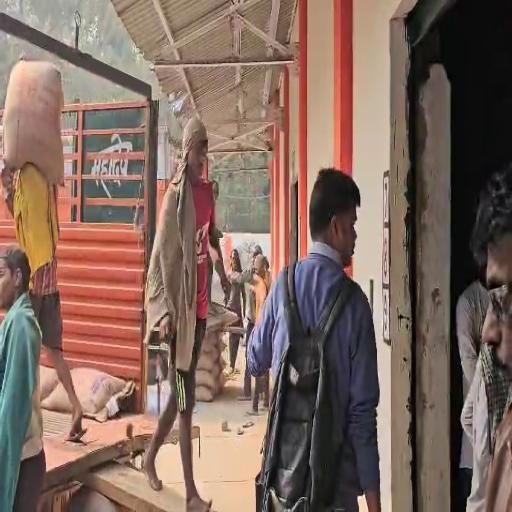bag: (4, 56, 68, 192)
